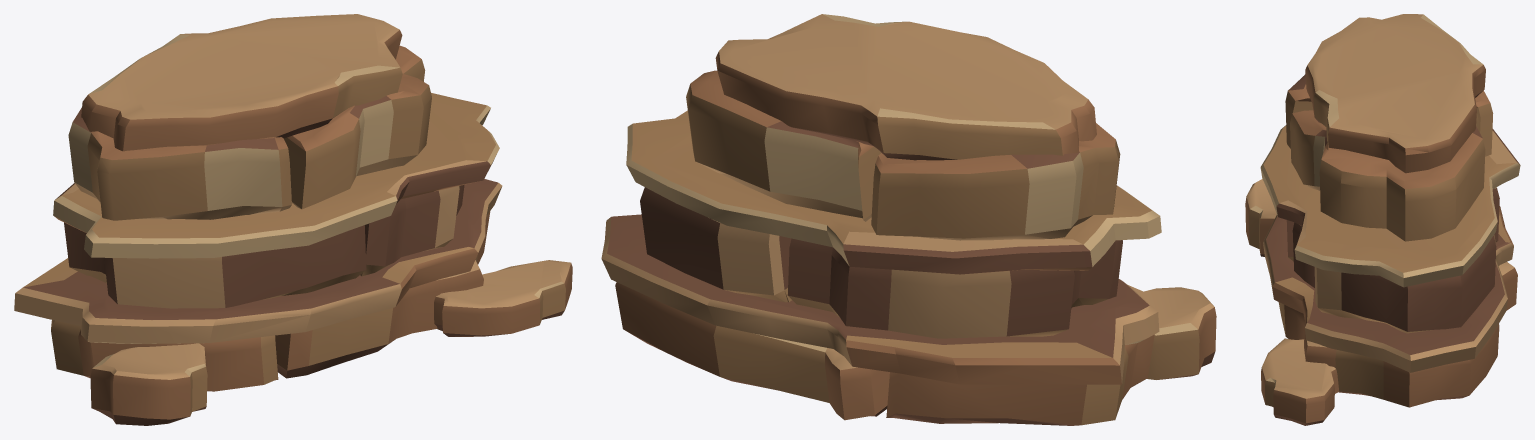
File: fw_sandstone_bedded.hi.glb
The picture shows the model from 3 angles, left to right: view 1: azimuth 30°, elevation 25°; view 2: azimuth 150°, elevation 25°; view 3: azimuth 270°, elevation 25°; orthographic projection. The views are drawn at different scales.
Visible parts, largest first — view 1: body; view 2: body; view 3: body.
Boxes of the visible parts, x1,y1,x2,y2 form: body: (14, 14, 572, 425); body: (601, 14, 1216, 425); body: (1245, 14, 1520, 425).
Bounding box in the file's own units: 2.32 × 1.22 × 1.26.
